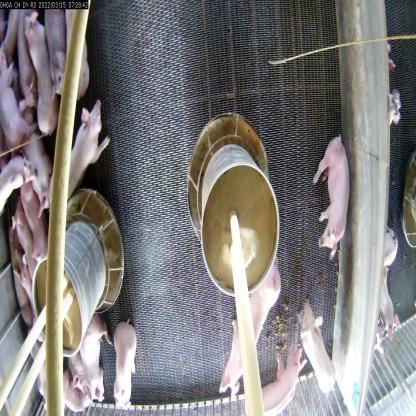Pig: (217, 261, 284, 393), (51, 96, 110, 207), (309, 134, 353, 261), (20, 10, 58, 140), (245, 342, 308, 415), (298, 289, 336, 395), (75, 296, 106, 413), (106, 309, 140, 414), (43, 7, 78, 105), (16, 180, 51, 273)
